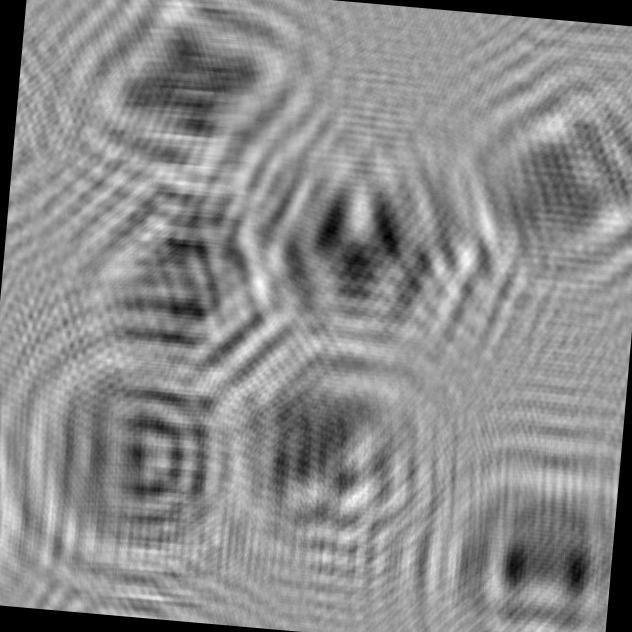D: (0, 317, 270, 599)
E: (396, 415, 623, 632)
K: (208, 314, 463, 580)
T: (418, 27, 632, 324)
W: (230, 112, 507, 375)
X: (33, 0, 345, 222)
Z: (44, 160, 303, 406)
